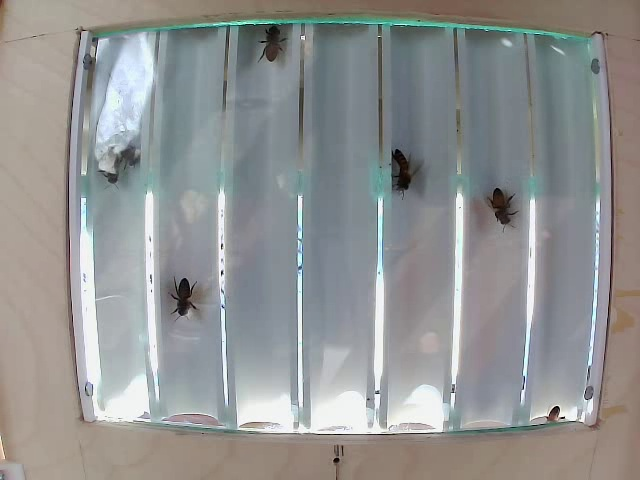bee: (163, 276, 207, 323), (253, 26, 300, 69), (388, 148, 424, 195), (488, 179, 516, 230)
